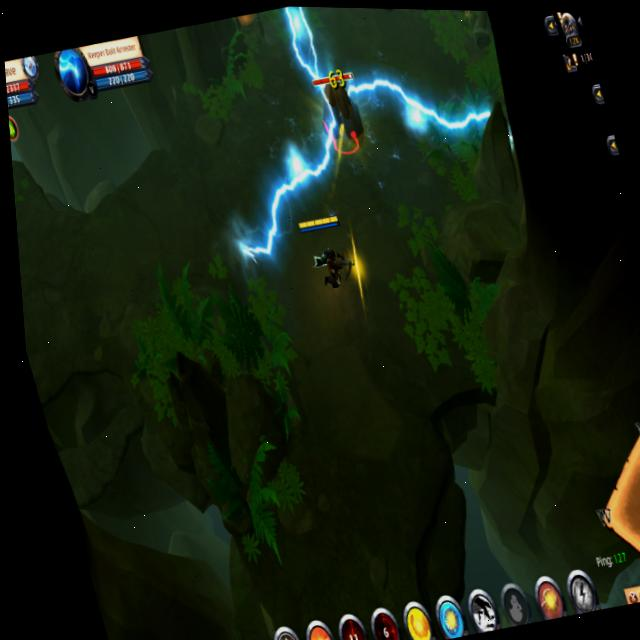ore: (304, 58, 379, 158)
red: (296, 213, 373, 315)
silver: (236, 111, 342, 280), (343, 72, 517, 163), (279, 6, 335, 112)
